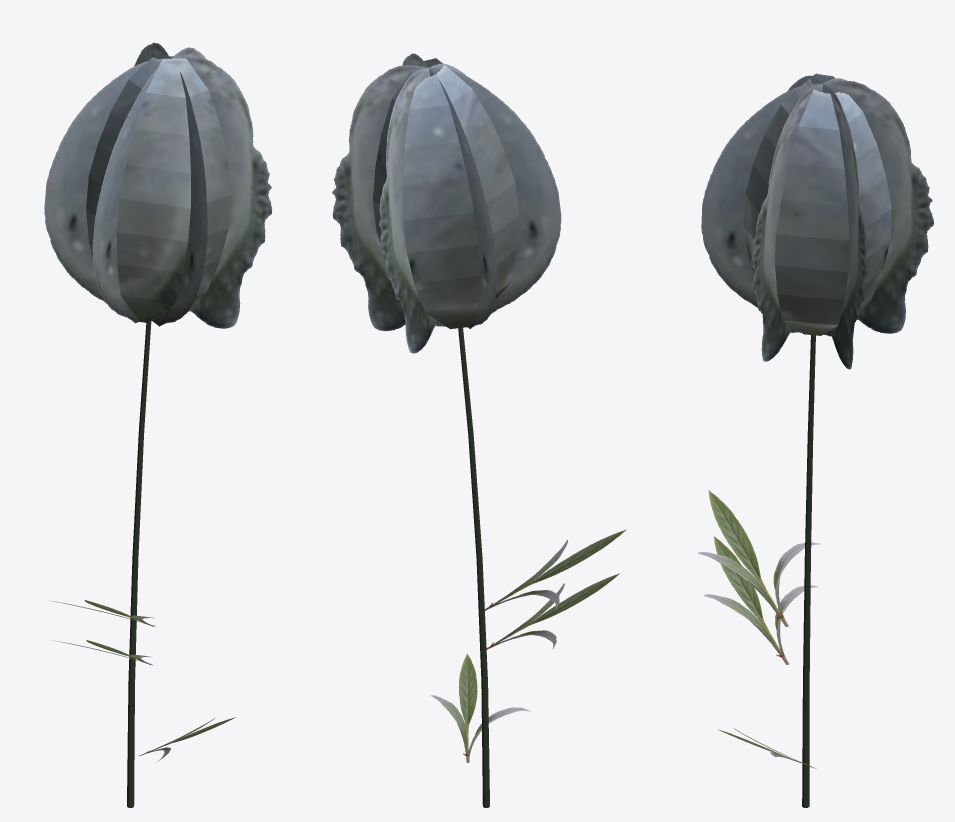
File: category_mesh_flower_5.glb
The picture shows the model from 3 angles, left to right: view 1: azimuth 30°, elevation 25°; view 2: azimuth 150°, elevation 25°; view 3: azimuth 270°, elevation 25°; orthographic projection. The views are drawn at different scales.
Visible parts, largest first — view 1: category_mesh_flower_5; view 2: category_mesh_flower_5; view 3: category_mesh_flower_5.
Part boxes in pixels (x1=…): category_mesh_flower_5: x1=44, y1=42, x2=272, y2=807; category_mesh_flower_5: x1=332, y1=53, x2=626, y2=807; category_mesh_flower_5: x1=698, y1=73, x2=933, y2=807.
Bounding box in the file's own units: 0.1877 × 0.4986 × 0.1617.
Materials: 1 (1 with a texture image).
